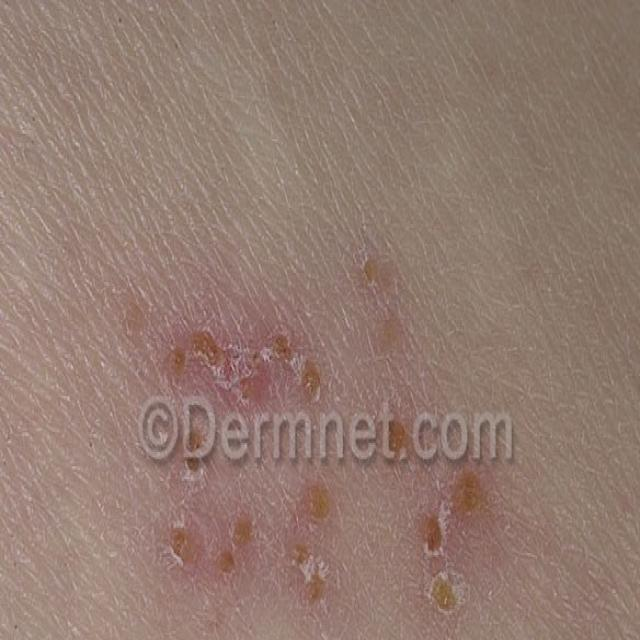Viral Infections: (124, 211, 530, 640)
